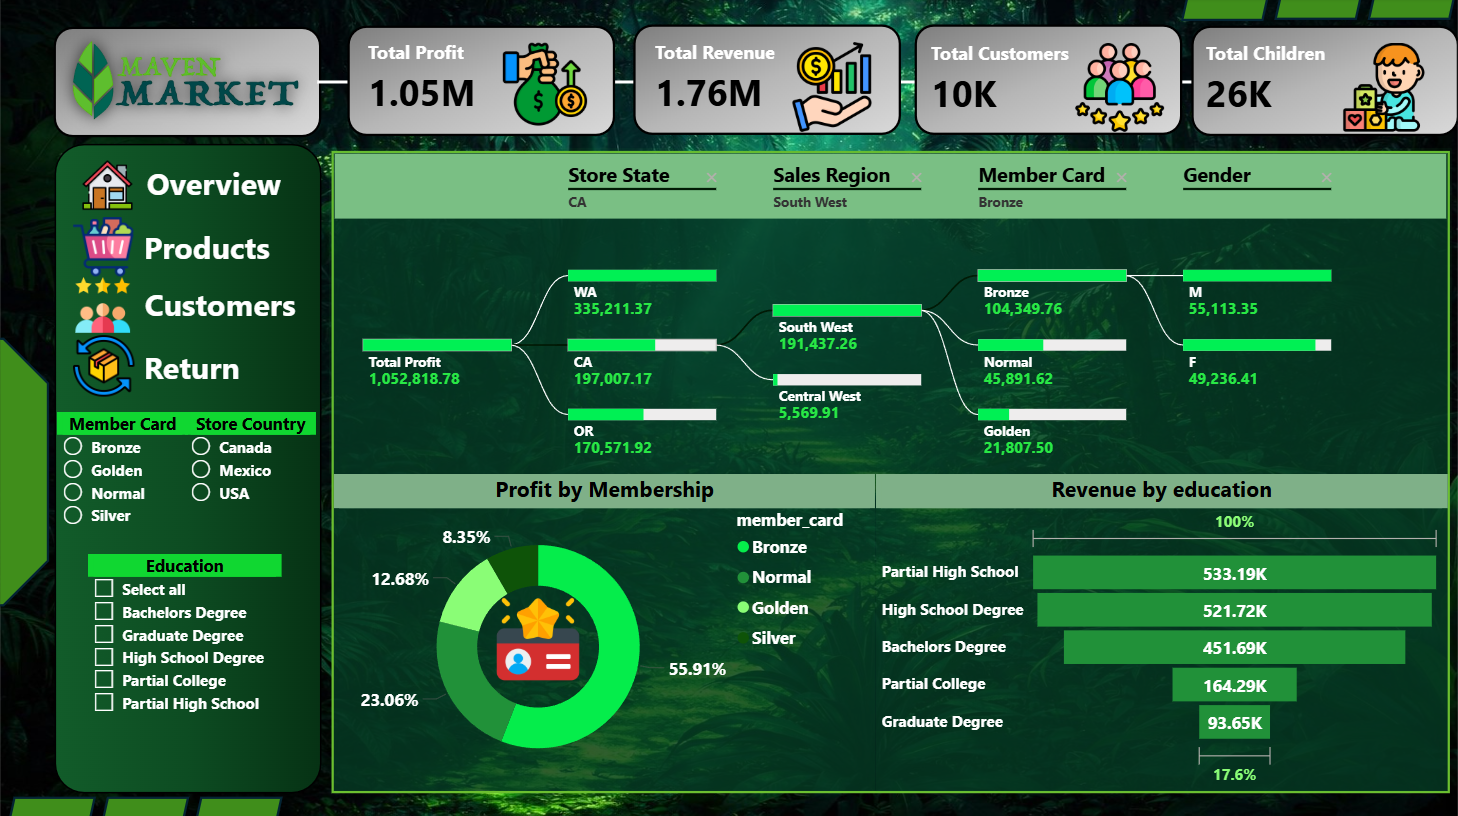

This screenshot's page, from the dashboard's own definition file:
{"tool":"powerbi","page":{"name":"Customers","canvas":[1280,720],"ordinal":2},"visuals":[{"type":"group","id":"g1","title":"Group 1","box":[69,139,193,53],"z":0},{"type":"image","box":[64.5,191.5,52.5,53.8],"z":0,"group":"g4"},{"type":"image","box":[63.2,245.2,53.8,48.8],"z":0,"group":"g2"},{"type":"image","box":[64.5,295.2,53.8,56.2],"z":0,"group":"g3"},{"type":"listSlicer","title":"Store Country","fields":{"Values":["Stores.store_country"]},"box":[162.7,363.6,115.5,162.7],"z":0,"group":"g9"},{"type":"actionButton","box":[68,142,196,44],"z":1000},{"type":"image","box":[69,142.1,50,43.8],"z":1000,"group":"g1"},{"type":"textbox","box":[122,245.2,148.8,50],"z":1000,"group":"g2"},{"type":"textbox","box":[122,300.2,106.2,51.2],"z":1000,"group":"g3"},{"type":"listSlicer","title":"Member Card","fields":{"Values":["Customers.member_card"]},"box":[50,363.6,115.5,162.7],"z":1000,"group":"g9"},{"type":"textbox","box":[123.1,139,138.8,52.5],"z":2000,"group":"g1"},{"type":"donutChart","title":"Profit by Membership","fields":{"Category":["Customers.member_card"],"Y":["KPIs.Total Profit"]},"box":[293.6,418.2,475.5,278.2],"z":2000},{"type":"listSlicer","title":"Education","fields":{"Values":["Customers.education"]},"box":[77.3,488.1,170,162.7],"z":2000,"group":"g9"},{"type":"textbox","box":[121.7,194.9,133.8,48.8],"z":2003,"group":"g4"},{"type":"group","id":"g2","title":"Group 3","box":[63.2,245.2,207.5,50],"z":3000},{"type":"actionButton","box":[58,246,209,50],"z":4000},{"type":"group","id":"g3","title":"Group 4","box":[64.5,295.2,163.8,56.2],"z":5000},{"type":"actionButton","box":[58,296,209,57],"z":6000},{"type":"group","id":"g4","title":"Group 2","box":[64.5,191.5,191.2,53.8],"z":7000},{"type":"actionButton","box":[65,191,196,53],"z":8000},{"type":"group","id":"g5","title":"Group 6","box":[294.5,3.6,251.4,131.4],"z":9000},{"type":"cardVisual","fields":{"Data":["KPIs.Total Revenue"]},"box":[546.4,3.6,252.9,131.4],"z":9000,"group":"g6"},{"type":"cardVisual","fields":{"Data":["select","KPIs.Total Customers"]},"box":[788.6,4.3,240,131.4],"z":9000,"group":"g7"},{"type":"cardVisual","fields":{"Data":["KPIs.Total Profit"]},"box":[294.5,3.6,251.4,131.4],"z":10000,"group":"g5"},{"type":"group","id":"g6","title":"Group 5","box":[546.4,3.6,252.7,130.9],"z":10000},{"type":"cardVisual","fields":{"Data":["Sum(Customers.total_children)"]},"box":[1030,4.3,240,131.4],"z":10000,"group":"g8"},{"type":"group","id":"g7","title":"Group 7","box":[788.6,4.3,240,131.4],"z":11000},{"type":"group","id":"g8","title":"Group 8","box":[1030,4.3,241,131.4],"z":12000},{"type":"image","box":[677.4,38.9,107.1,78.6],"z":12001,"group":"g6"},{"type":"image","box":[436,39,86,74],"z":12003,"group":"g5"},{"type":"image","box":[942,39,82,78],"z":13000,"group":"g7"},{"type":"image","box":[429.1,526.4,86.4,73.6],"z":13000},{"type":"image","box":[1159,39,112,78],"z":13002,"group":"g8"},{"type":"funnel","title":"Revenue by education","fields":{"Y":["KPIs.Total Revenue"],"Category":["Customers.education"]},"box":[769.1,418.2,501.8,279.1],"z":14000},{"type":"group","id":"g9","title":"Group 9","box":[50,363.6,228.2,287.3],"z":15000},{"type":"decompositionTreeVisual","title":"Revenue by education","fields":{"Analyze":["KPIs.Total Profit"],"ExplainBy":["Stores.store_state","Regions.sales_region","Customers.member_card","Customers.gender"]},"box":[289.1,131.8,986.4,286.4],"z":16000}]}

Visuals, with their boxes in screenshot pixels (x1, y1, x2, y2), scaled from the page's 1280x720 canvas onto the 1458x816 screenshot:
"Group 1" group: (x1=79, y1=158, x2=298, y2=218)
image: (x1=73, y1=217, x2=133, y2=278)
image: (x1=72, y1=278, x2=133, y2=333)
image: (x1=73, y1=335, x2=135, y2=398)
"Store Country" listSlicer: (x1=185, y1=412, x2=317, y2=596)
actionButton: (x1=77, y1=161, x2=301, y2=211)
image: (x1=79, y1=161, x2=136, y2=211)
textbox: (x1=139, y1=278, x2=308, y2=335)
textbox: (x1=139, y1=340, x2=260, y2=398)
"Member Card" listSlicer: (x1=57, y1=412, x2=189, y2=596)
textbox: (x1=140, y1=158, x2=298, y2=217)
"Profit by Membership" donutChart: (x1=334, y1=474, x2=876, y2=789)
"Education" listSlicer: (x1=88, y1=553, x2=282, y2=738)
textbox: (x1=139, y1=221, x2=291, y2=276)
"Group 3" group: (x1=72, y1=278, x2=308, y2=335)
actionButton: (x1=66, y1=279, x2=304, y2=335)
"Group 4" group: (x1=73, y1=335, x2=260, y2=398)
actionButton: (x1=66, y1=335, x2=304, y2=400)
"Group 2" group: (x1=73, y1=217, x2=291, y2=278)
actionButton: (x1=74, y1=216, x2=297, y2=277)
"Group 6" group: (x1=335, y1=4, x2=622, y2=153)
cardVisual - KPIs.Total Revenue: (x1=622, y1=4, x2=910, y2=153)
cardVisual - select x KPIs.Total Customers: (x1=898, y1=5, x2=1172, y2=154)
cardVisual - KPIs.Total Profit: (x1=335, y1=4, x2=622, y2=153)
"Group 5" group: (x1=622, y1=4, x2=910, y2=152)
cardVisual - Sum(Customers.total_children): (x1=1173, y1=5, x2=1447, y2=154)
"Group 7" group: (x1=898, y1=5, x2=1172, y2=154)
"Group 8" group: (x1=1173, y1=5, x2=1448, y2=154)
image: (x1=772, y1=44, x2=894, y2=133)
image: (x1=497, y1=44, x2=595, y2=128)
image: (x1=1073, y1=44, x2=1166, y2=133)
image: (x1=489, y1=597, x2=587, y2=680)
image: (x1=1320, y1=44, x2=1448, y2=133)
"Revenue by education" funnel: (x1=876, y1=474, x2=1448, y2=790)
"Group 9" group: (x1=57, y1=412, x2=317, y2=738)
"Revenue by education" decompositionTreeVisual: (x1=329, y1=149, x2=1453, y2=474)
